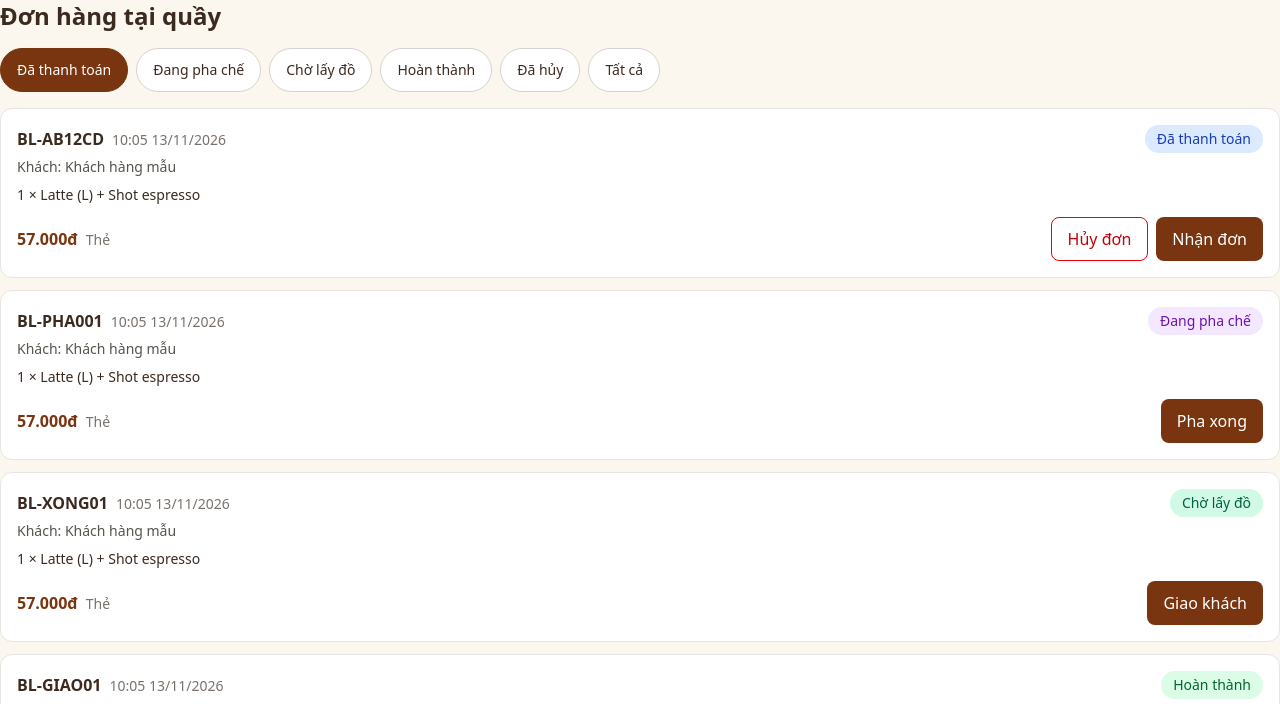
Test: Màn hình quầy của nhân viên (CT-53 – CT-58) › CT-55: nút theo bước Nhận đơn → Pha xong → Giao khách; bấm Nhận đơn gửi PATCH trạng thái PREPARING, báo thành công và tải lại danh sách
expect the button "Pha xong" is shown: met, box [1161, 399, 1263, 443]
expect the button "Giao khách" is shown: met, box [1147, 581, 1263, 625]
Click the button "Nhận đơn": coordinates (1210, 239) [1156, 217, 1263, 261]
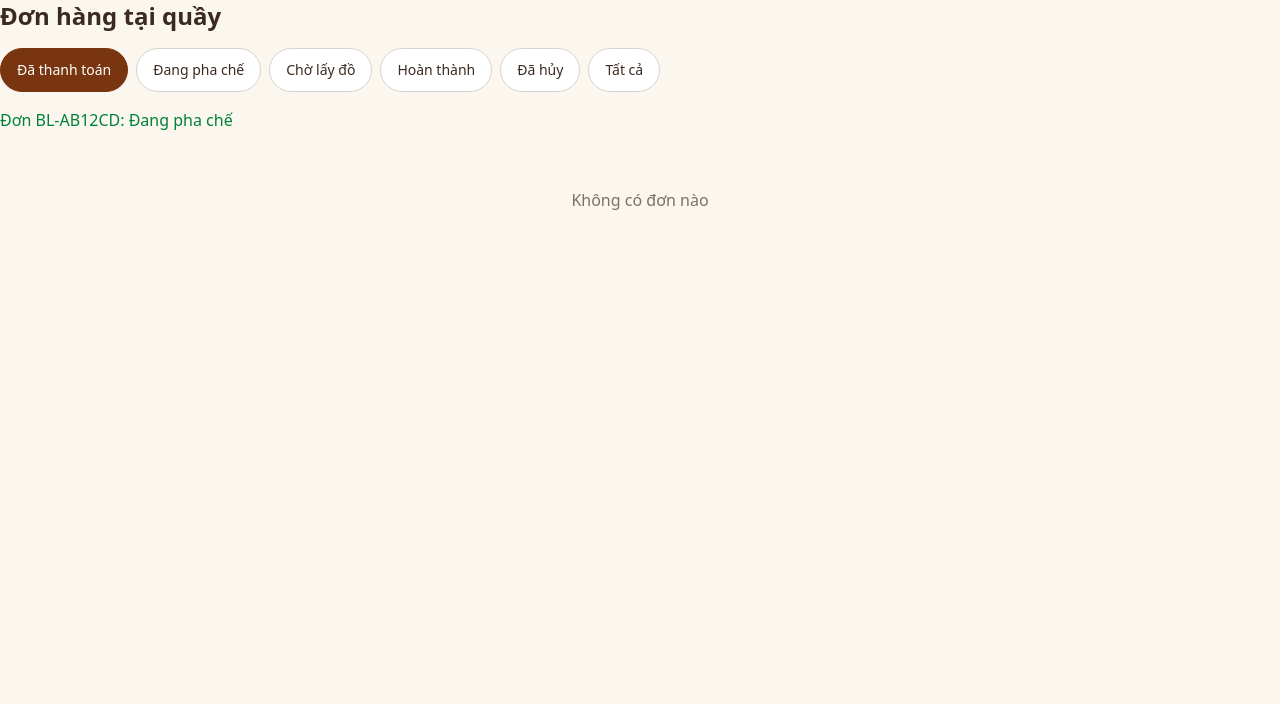
expect the text "Đơn BL-AB12CD: Đang pha chế" is shown: met, box [0, 109, 233, 131]
